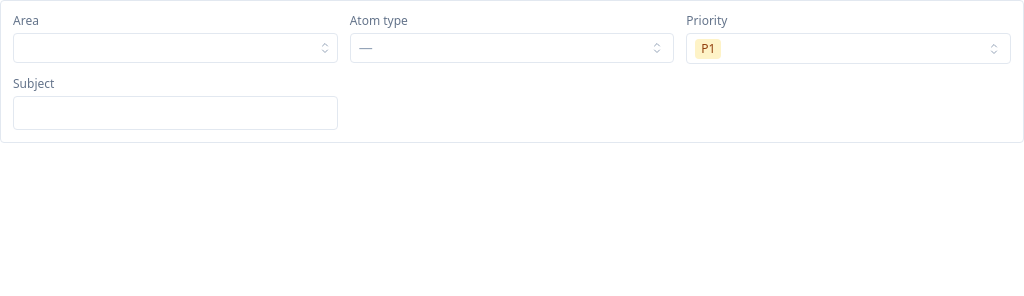
Test: the priority dropdown shows colored badges with explanations
The image size is (1024, 296).
Click the button named "Priority" at (708, 49), box [686,33,1011,64]
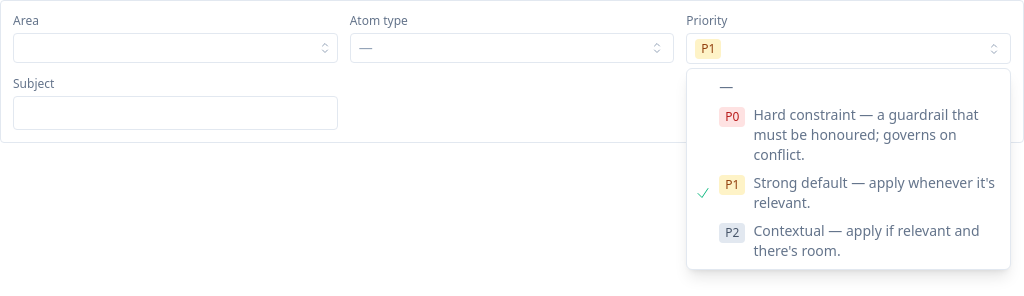
Now the text "Hard constraint" is shown, box [754,105,979,164]
